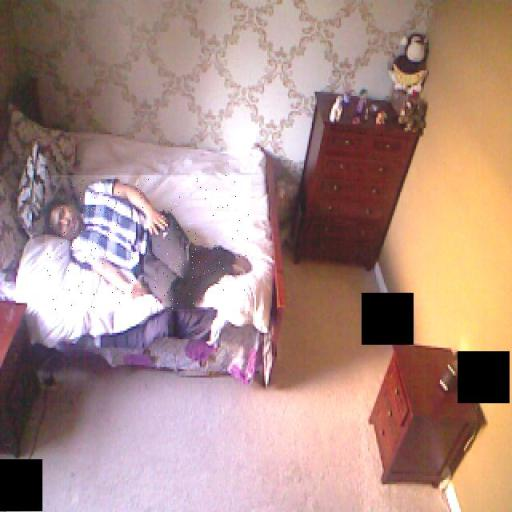Fall: (45, 175, 251, 311)
